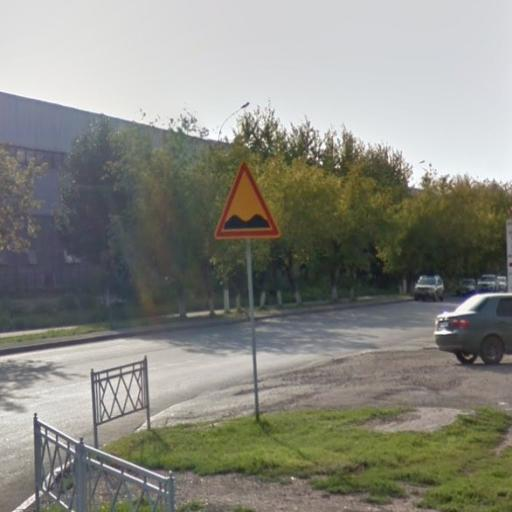traffic_sign: (211, 159, 286, 246)
